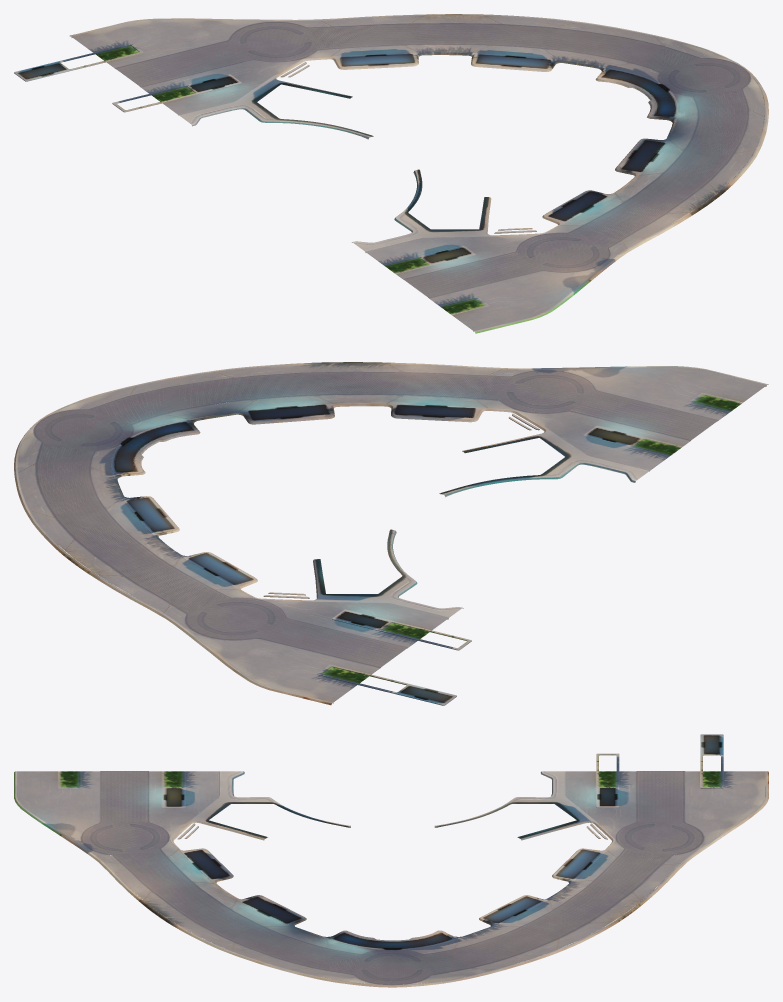
File: pref_sm_beach_techsmall_001_bk_main_road01_lv1.fbx
The picture shows the model from 3 angles, top to bottom: view 1: azimuth 30°, elevation 25°; view 2: azimuth 150°, elevation 25°; view 3: azimuth 270°, elevation 25°; orthographic projection. The views are drawn at different scales.
Parts seen in each view (by area): view 1: pref_sm_beach_techsmall_001_bk_main_road01_lv1; view 2: pref_sm_beach_techsmall_001_bk_main_road01_lv1; view 3: pref_sm_beach_techsmall_001_bk_main_road01_lv1.
Part boxes in pixels (bbox=[...]): pref_sm_beach_techsmall_001_bk_main_road01_lv1: bbox=[14, 14, 768, 333]; pref_sm_beach_techsmall_001_bk_main_road01_lv1: bbox=[14, 362, 768, 705]; pref_sm_beach_techsmall_001_bk_main_road01_lv1: bbox=[14, 734, 768, 987].
Bounding box in the file's own units: 55.5 × 0.2236 × 70.37.
